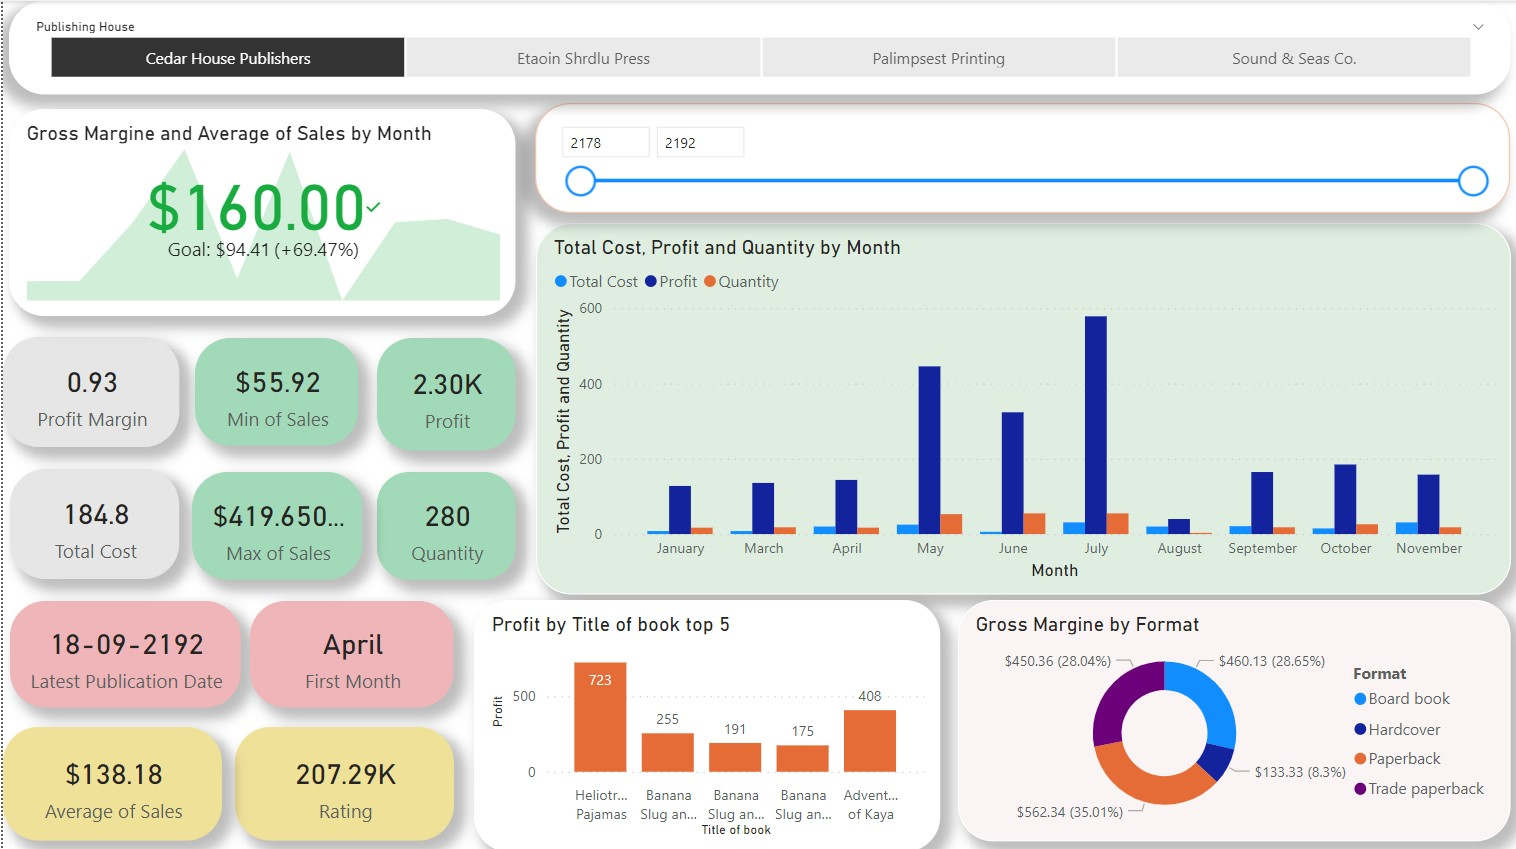

Layout of this report page (visuals, bound fields, positions):
{"tool":"powerbi","page":{"name":"Page 2","canvas":[1280,720],"ordinal":0},"visuals":[{"type":"clusteredColumnChart","fields":{"Category":["edition.Publication Date.Variation.Date Hierarchy.Month"],"Y":["edition.Total Cost","edition.Profit","Sum(edition.Quantity)"]},"box":[449.6,185.1,823.9,313.5],"z":0},{"type":"card","fields":{"Values":["Max(edition.Publication Date)"]},"box":[5.8,506.7,194.5,90.5],"z":1000},{"type":"card","fields":{"Values":["edition.Total Cost"]},"box":[5.8,395.9,143,93.4],"z":2000},{"type":"card","fields":{"Values":["edition.Profit Margin"]},"box":[0,284,148.8,93.4],"z":3000},{"type":"slicer","fields":{"Values":["edition.Publication Date.Variation.Date Hierarchy.Year"]},"box":[449.6,86.2,823.9,93],"z":4000},{"type":"card","fields":{"Values":["Min(edition.Publication Date.Variation.Date Hierarchy.Month)"]},"box":[209.1,506.7,172.2,90.5],"z":5000},{"type":"card","fields":{"Values":["Sum(edition.Quantity)"]},"box":[316.1,397.8,116.7,91.4],"z":6000},{"type":"card","fields":{"Values":["Min(edition.Sales)"]},"box":[162.4,285,138.1,91.4],"z":7000},{"type":"card","fields":{"Values":["Max(edition.Sales)"]},"box":[159.5,397.8,144,91.4],"z":8000},{"type":"card","fields":{"Values":["edition.Profit"]},"box":[316.1,285,116.7,95.3],"z":9000},{"type":"card","fields":{"Values":["Sum(ratings(1).Rating)"]},"box":[196.5,613.7,184.8,96.3],"z":10000},{"type":"slicer","fields":{"Values":["publisher.Publishing House"]},"box":[5.1,0,1269.3,79.4],"z":11000},{"type":"kpi","fields":{"Indicator":["Sum(edition.Gross Margine)"],"Goal":["Avg(edition.Sales)"],"TrendLine":["edition.Publication Date.Variation.Date Hierarchy.Month"]},"box":[4.9,91.4,428,175.1],"z":12000},{"type":"columnChart","title":"Profit by Title of book top 5","fields":{"Category":["BooksShop.Title of book","edition.Publication Date.Variation.Date Hierarchy.Month"],"Y":["edition.Profit"]},"box":[397.9,506.6,394,213.5],"z":13000},{"type":"donutChart","fields":{"Y":["Sum(edition.Gross Margine)"],"Series":["edition.Format"]},"box":[807.4,506.6,466.8,203.8],"z":14000},{"type":"card","fields":{"Values":["Avg(edition.Sales)"]},"box":[0,613.7,184.8,96.3],"z":15000}]}

Visuals, with their boxes in screenshot pixels (x1, y1, x2, y2), scaled from the page's 1280x720 canvas onto the 1516x849 screenshot:
clusteredColumnChart - edition.Publication Date.Variation.Date Hierarchy.Month x edition.Total Cost: bbox(532, 218, 1508, 588)
card - Max(edition.Publication Date): bbox(7, 597, 237, 704)
card - edition.Total Cost: bbox(7, 467, 176, 577)
card - edition.Profit Margin: bbox(0, 335, 176, 445)
slicer - edition.Publication Date.Variation.Date Hierarchy.Year: bbox(532, 102, 1508, 211)
card - Min(edition.Publication Date.Variation.Date Hierarchy.Month): bbox(248, 597, 452, 704)
card - Sum(edition.Quantity): bbox(374, 469, 513, 577)
card - Min(edition.Sales): bbox(192, 336, 356, 444)
card - Max(edition.Sales): bbox(189, 469, 359, 577)
card - edition.Profit: bbox(374, 336, 513, 448)
card - Sum(ratings(1).Rating): bbox(233, 724, 452, 837)
slicer - publisher.Publishing House: bbox(6, 0, 1509, 94)
kpi - Sum(edition.Gross Margine) x Avg(edition.Sales): bbox(6, 108, 513, 314)
"Profit by Title of book top 5" columnChart: bbox(471, 597, 938, 848)
donutChart - Sum(edition.Gross Margine) x edition.Format: bbox(956, 597, 1509, 838)
card - Avg(edition.Sales): bbox(0, 724, 219, 837)
